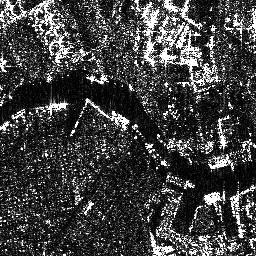ship: (205, 149, 252, 168)
